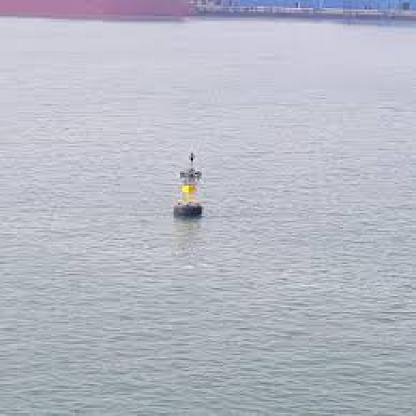buoy: (167, 149, 212, 222)
